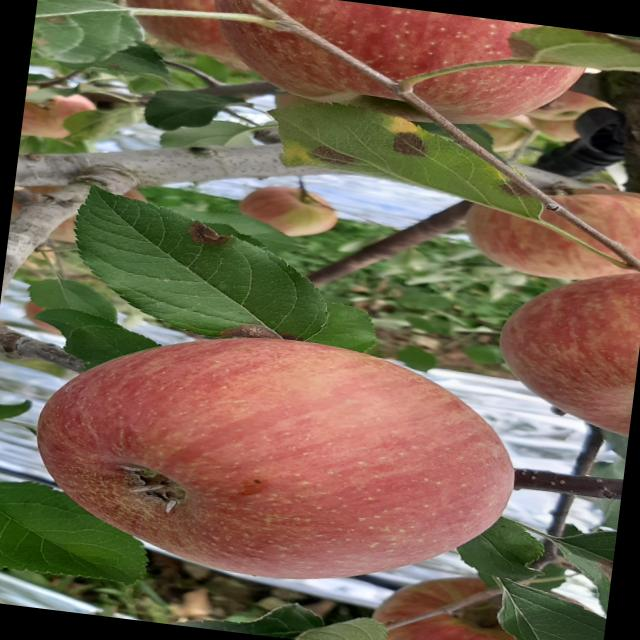fresh: (15, 303, 541, 609)
